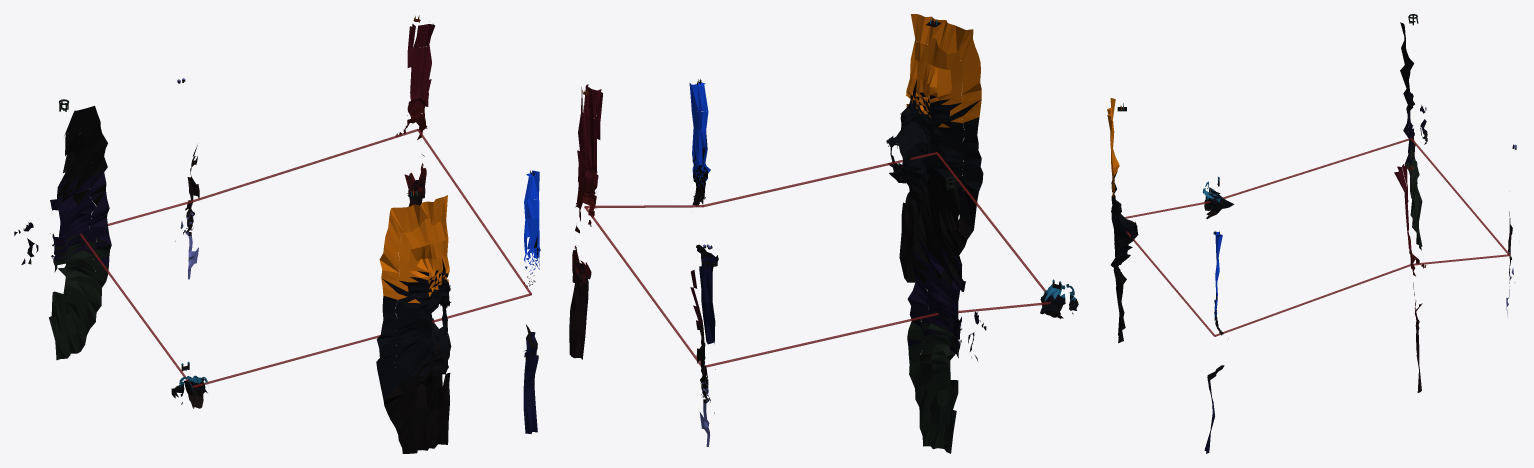
Rendered from mountain_blender.obj.
3 renders of one model, left to right at view 1: azimuth 30°, elevation 25°; view 2: azimuth 150°, elevation 25°; view 3: azimuth 270°, elevation 25°, orthographic. The views are drawn at different scales.
Parts seen in each view (by area): view 1: Default; view 2: Default; view 3: Default.
Part boxes in pixels (box(x1,y1,x2,y2)): Default: box(14, 15, 540, 453); Default: box(569, 14, 1078, 453); Default: box(1107, 14, 1516, 453).
Size of the model in its own units: 20.81 by 16.22 by 21.
